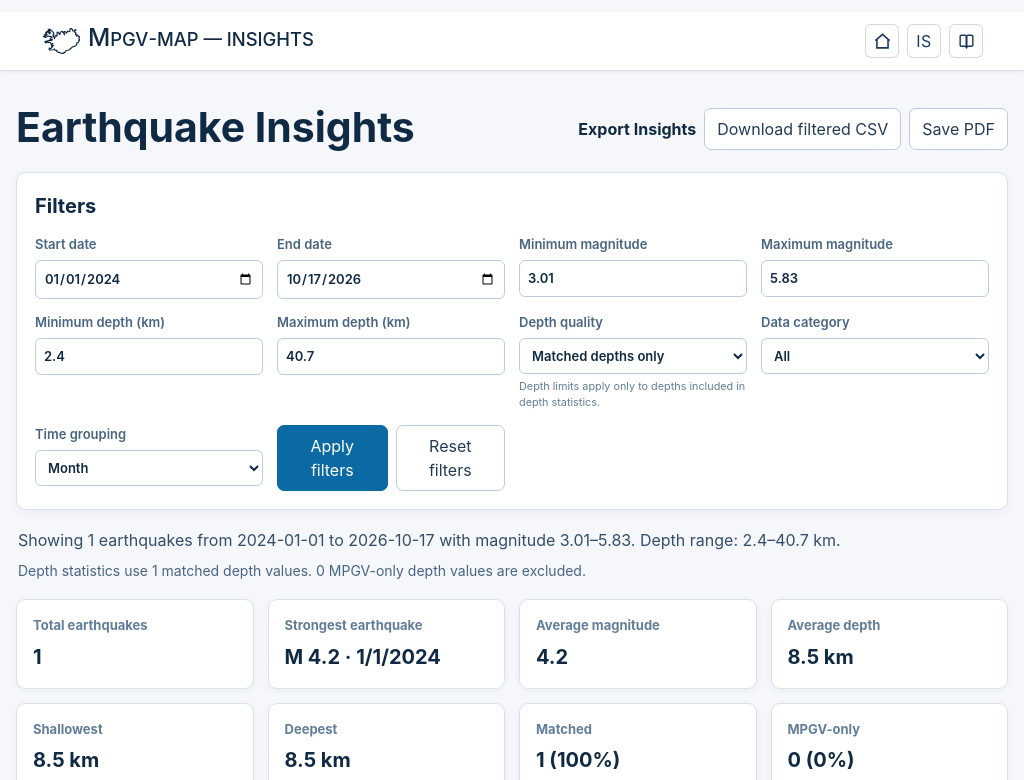
Scenario: AnalysisPage initialization lifecycle › does not restore the full skeleton when applied filters produce no results
Replace the text in the number field labelled "Minimum magnitude" with "5" at (633, 278), box 519,260 -> 747,297
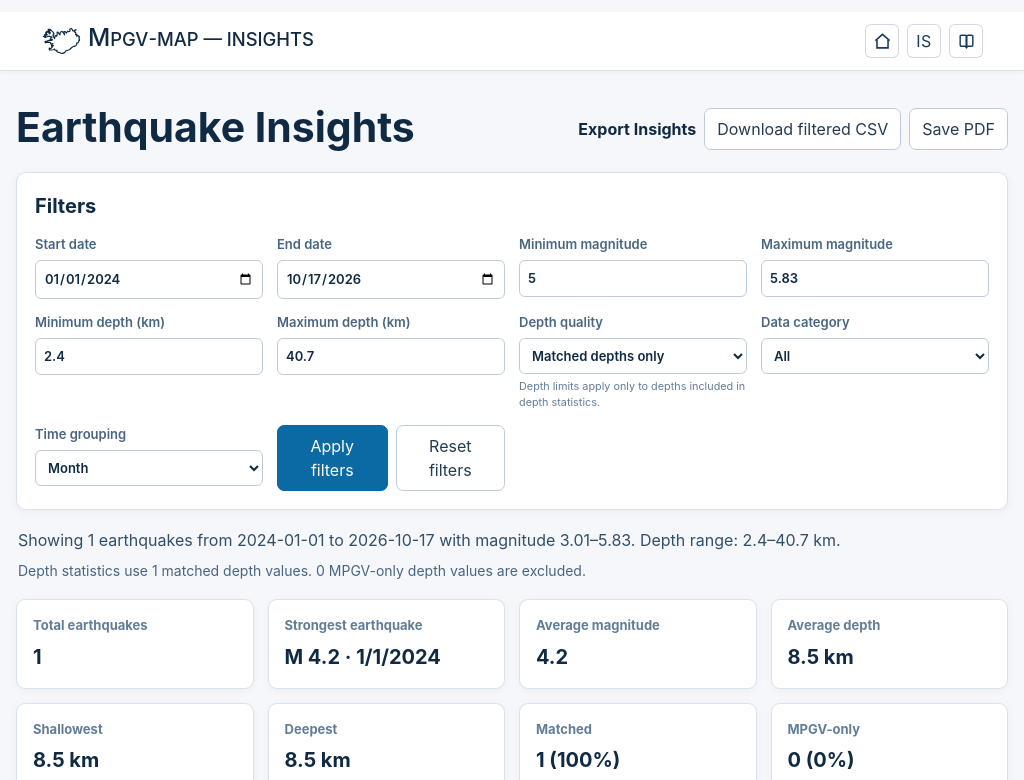
Submit the form named "Apply filters", box 35,235 -> 989,491
(page scrolled)
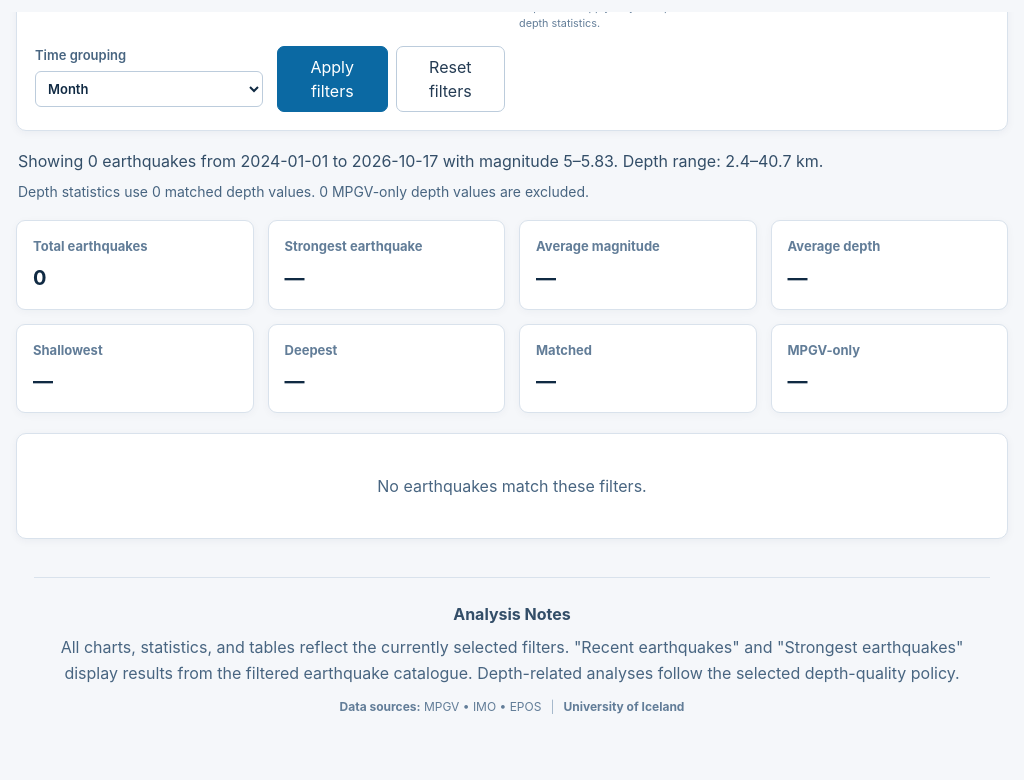
Result: the text "No earthquakes match these filters." is shown at 16,433 -> 1008,539
